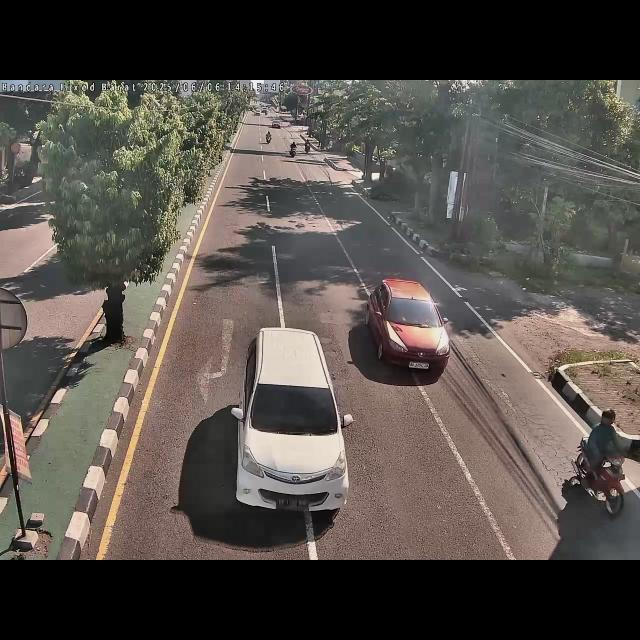Motor: (236, 324, 354, 514), (366, 275, 454, 377), (573, 404, 629, 524), (264, 128, 274, 148), (290, 139, 298, 161), (303, 136, 311, 158)
